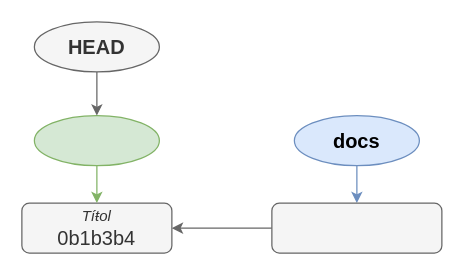
This 464x275 diagram has some shape labels left out. The centre of each missing label's shape, as x and y in pixels:
"main" goes at (x=96, y=140).
"Subtítol documentació 1b2c5d6" goes at (x=356, y=227).
